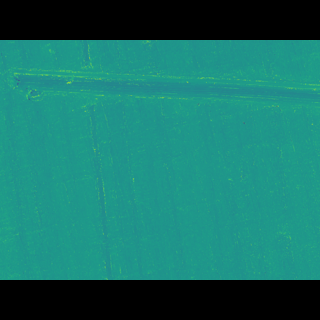Loch: (0, 88, 320, 126)
